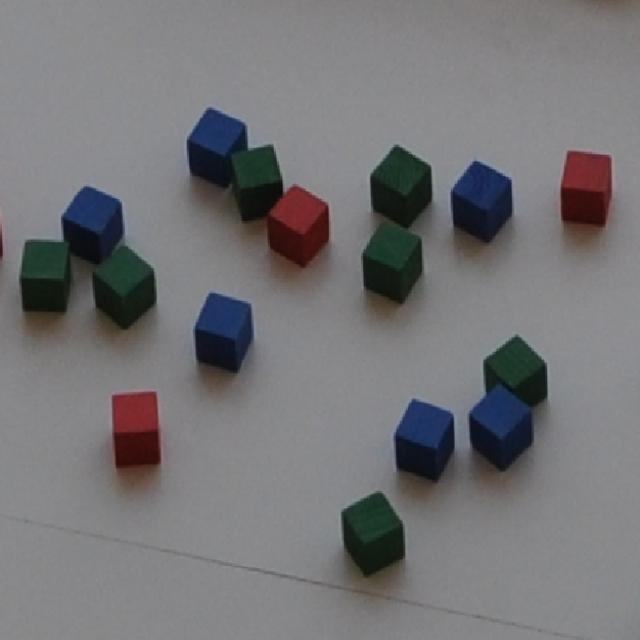bluecube: (466, 385, 531, 474), (453, 160, 516, 242), (62, 184, 125, 266), (186, 106, 247, 189), (396, 396, 454, 482), (193, 293, 253, 371)
green cube: (92, 245, 161, 329), (370, 145, 436, 229), (342, 490, 406, 576), (363, 220, 424, 308), (483, 333, 551, 407), (231, 145, 284, 222), (21, 236, 74, 311)
red cube: (266, 184, 332, 266), (559, 150, 616, 228), (110, 388, 162, 468)
